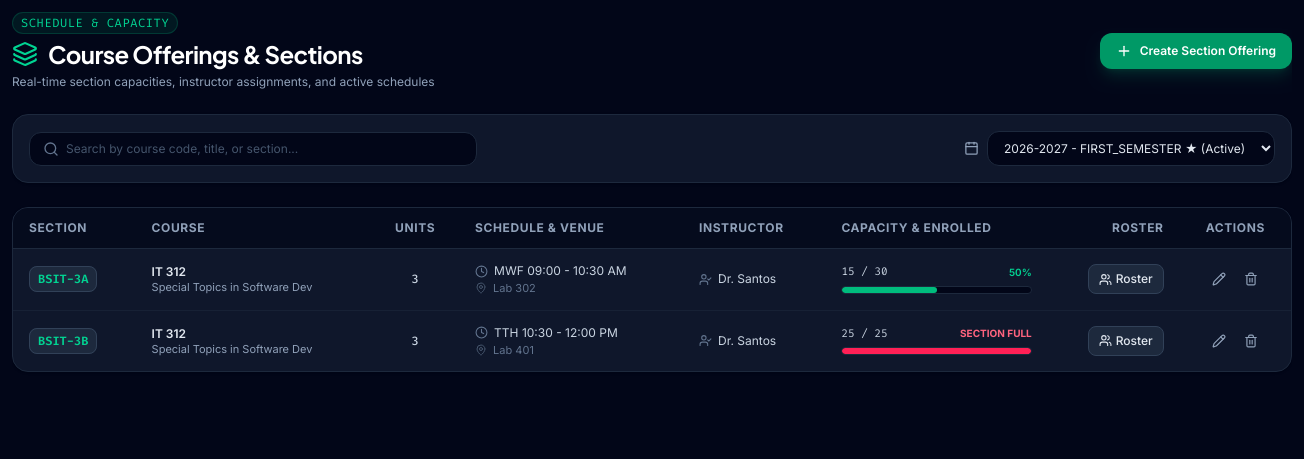
OfferingsPage Component › should delete a section offering after confirmation
Expected: the text "BSIT-3A" is shown, x1=29 y1=266 x2=97 y2=292
What coordinates should you click on to do the following:
click the button named "Delete BSIT-3A"
I would click on:
 (1251, 279)
Its box is x1=1238 y1=266 x2=1264 y2=292.
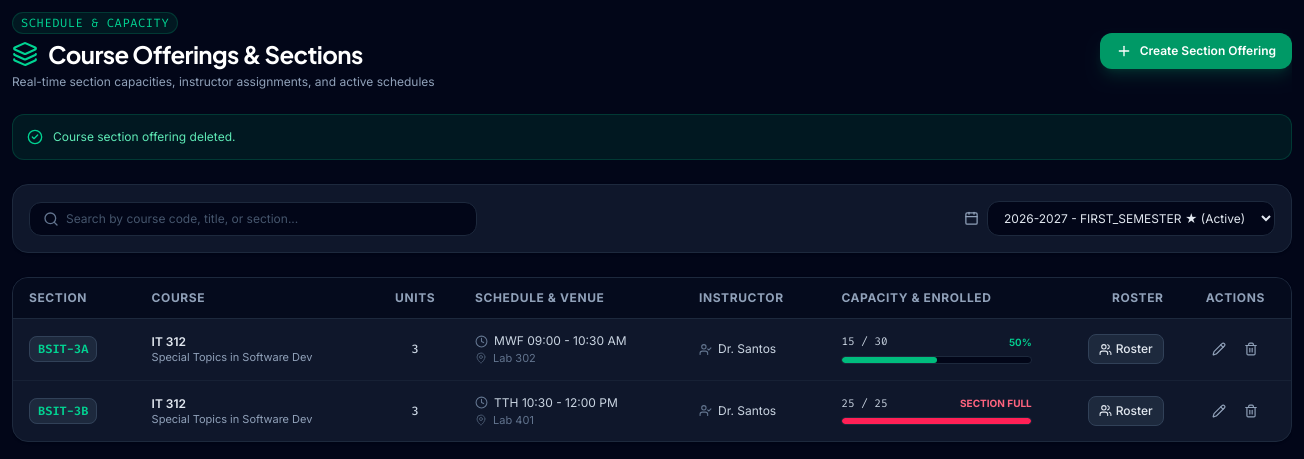
Expected: the text "Course section offering deleted." is shown, x1=53 y1=129 x2=235 y2=145
